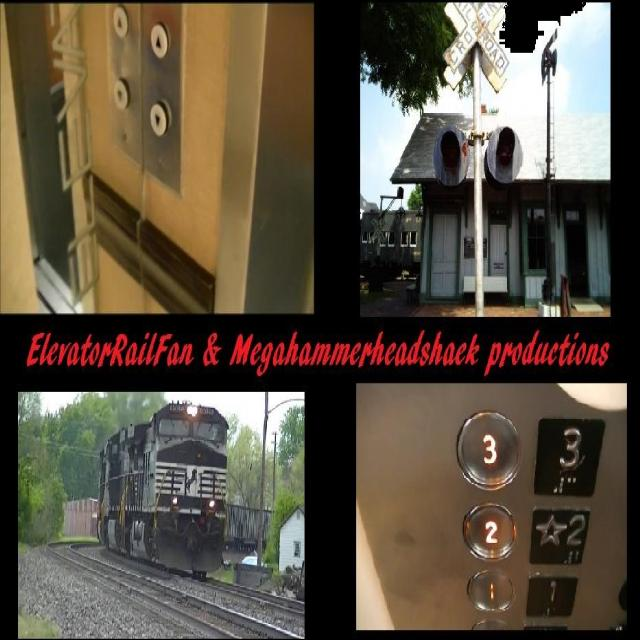1: (525, 576, 577, 619), (466, 568, 514, 612)
2: (462, 501, 516, 563)
3: (533, 416, 604, 495), (455, 408, 522, 490)
down: (147, 101, 166, 136), (112, 76, 128, 108)
s2: (529, 508, 589, 566)
up: (150, 22, 167, 59), (111, 5, 128, 36)
